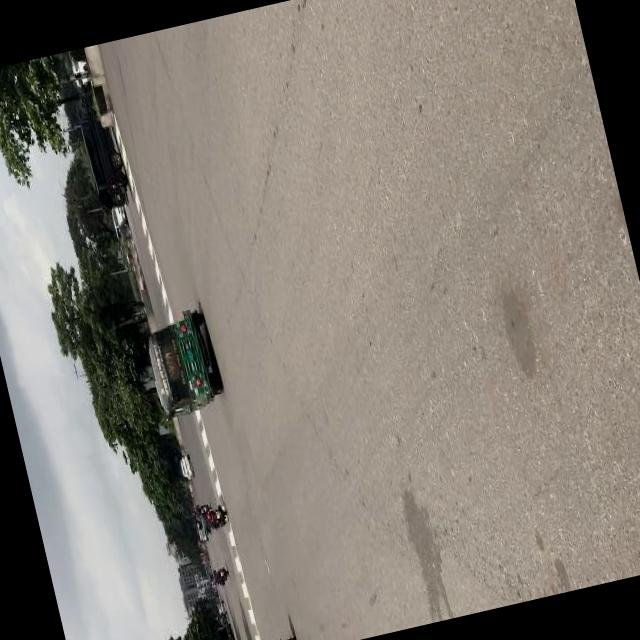bus: (198, 551, 210, 565)
car: (109, 206, 131, 243), (177, 454, 194, 482), (197, 530, 207, 542)
motorcycle: (140, 307, 226, 424), (192, 503, 230, 536), (208, 566, 232, 590), (190, 501, 213, 518)
truck: (70, 80, 130, 210)
